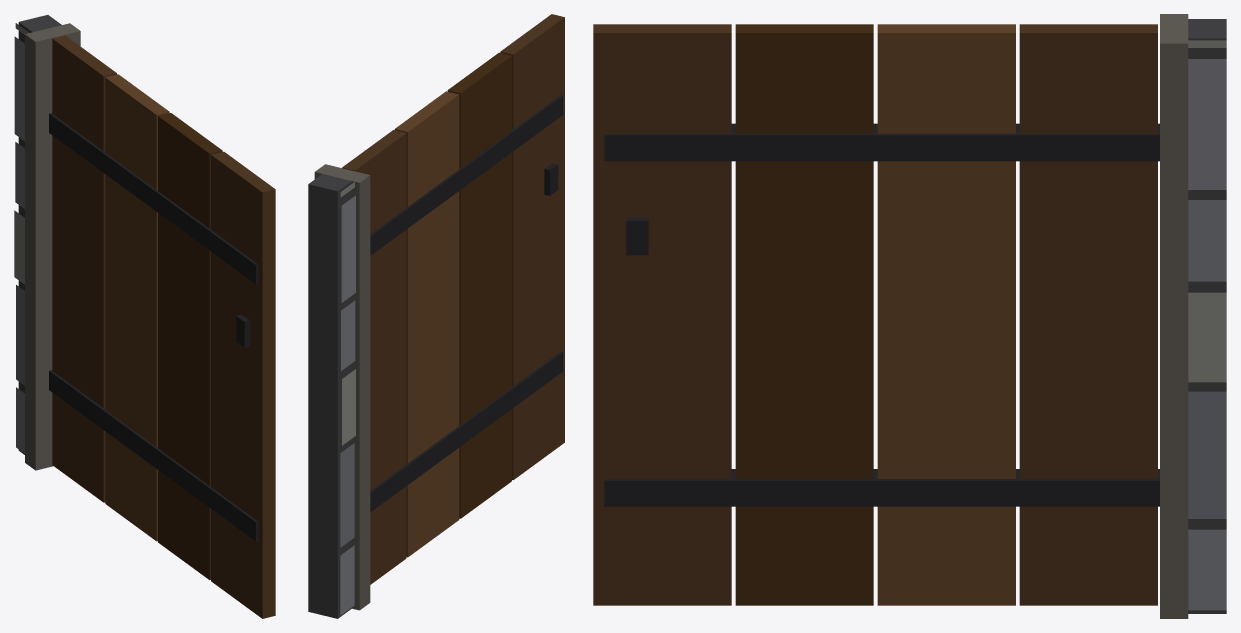
The model's file is wall-stone-door-shut-low-l.glb.
The picture shows the model from 3 angles, left to right: view 1: azimuth 30°, elevation 25°; view 2: azimuth 150°, elevation 25°; view 3: azimuth 270°, elevation 25°; orthographic projection. The views are drawn at different scales.
Visible parts, largest first — view 1: wall-stone-door-shut-low-l; view 2: wall-stone-door-shut-low-l; view 3: wall-stone-door-shut-low-l.
Part boxes in pixels (x1,y1,x2,y2): wall-stone-door-shut-low-l: [14, 15, 275, 618]; wall-stone-door-shut-low-l: [308, 14, 564, 618]; wall-stone-door-shut-low-l: [593, 14, 1226, 618].
Bounding box in the file's own units: 0.11 × 1 × 0.997.
